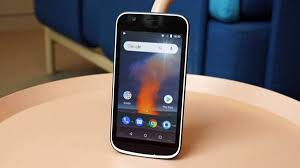nokia: (108, 10, 191, 163)
